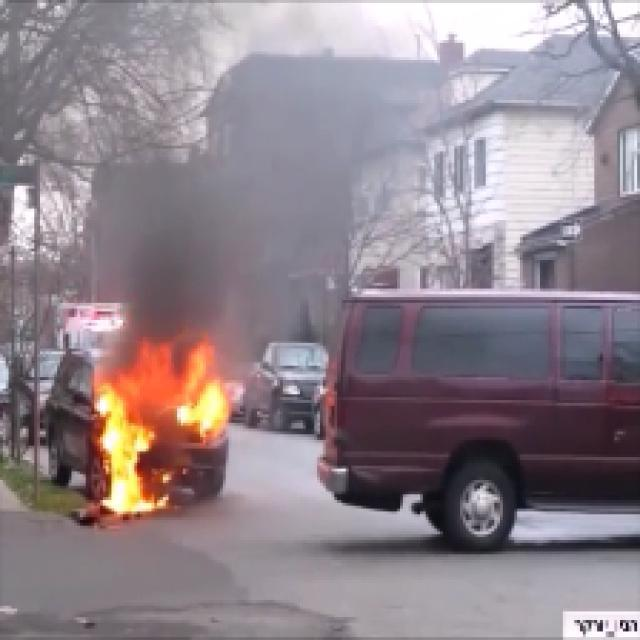Fire: (93, 334, 245, 524)
Smoke: (96, 19, 423, 378)
